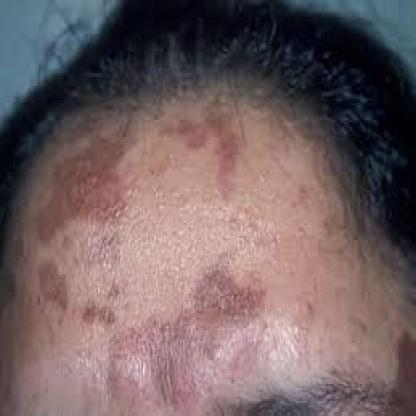darkspot: (38, 130, 136, 322), (164, 268, 262, 392), (164, 107, 258, 219), (370, 324, 414, 392)
